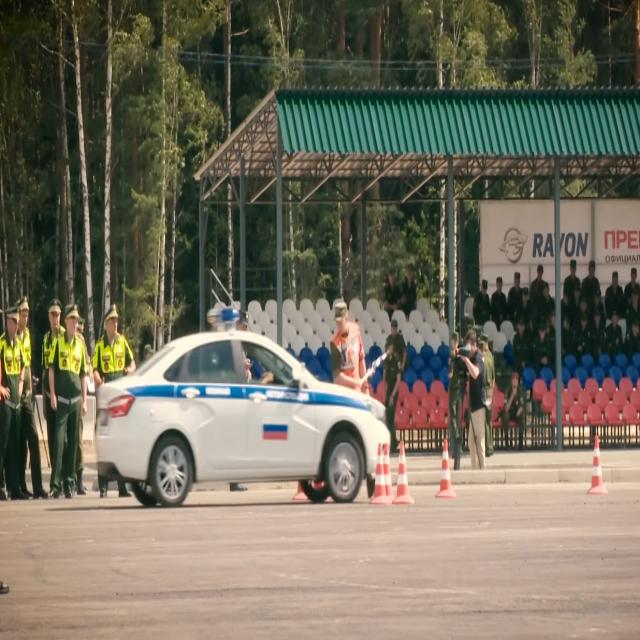police car: (93, 304, 394, 514)
